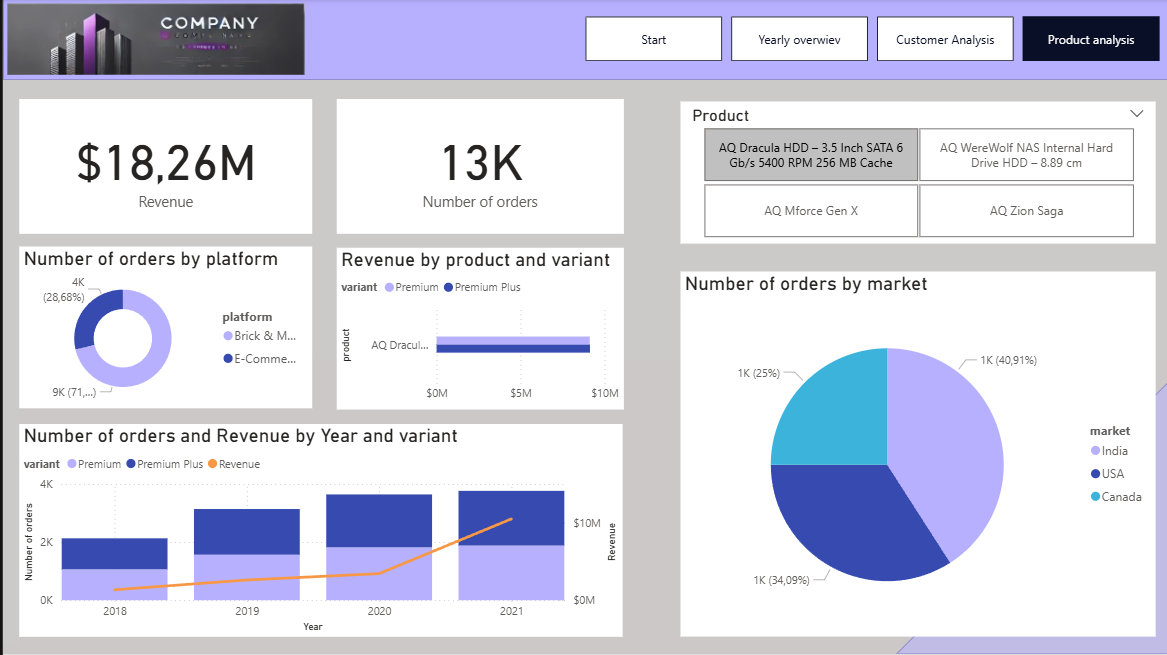

Layout of this report page (visuals, bound fields, positions):
{"tool":"powerbi","page":{"name":"Product analysis","canvas":[1280,720],"ordinal":3},"visuals":[{"type":"slicer","fields":{"Values":["dim_product.product"]},"box":[743.1,112.8,521.3,155.6],"z":1000},{"type":"shape","box":[980.4,420.2,299.6,299.6],"z":1500},{"type":"pieChart","fields":{"Category":["dim_customer.market"],"Y":["_Measures.Count_Of_Orders"]},"box":[743.1,298.6,521.3,400.7],"z":2000},{"type":"donutChart","fields":{"Y":["_Measures.Count_Of_Orders"],"Category":["dim_customer.platform"]},"box":[18.5,272.3,321.9,178],"z":3000},{"type":"clusteredBarChart","fields":{"Category":["dim_product.product"],"Series":["dim_product.variant"],"Y":["Sum(fact_sales_monthly.Revenue)"]},"box":[365.7,273.3,315.1,178],"z":4000},{"type":"card","fields":{"Values":["Sum(fact_sales_monthly.Revenue)"]},"box":[18.5,109.9,321.9,147.8],"z":5000},{"type":"card","fields":{"Values":["_Measures.Count_Of_Orders"]},"box":[365.7,109.9,315.1,147.8],"z":6000},{"type":"shape","box":[0,0,1280,88.9],"z":7000},{"type":"pageNavigator","box":[640,19.5,632.2,49.6],"z":8000},{"type":"lineStackedColumnComboChart","fields":{"Y":["_Measures.Count_Of_Orders"],"Category":["dim_Date.Date.Variation.Date Hierarchy.Year","dim_Date.Date.Variation.Date Hierarchy.Month"],"Y2":["Sum(fact_sales_monthly.Revenue)"],"Series":["dim_product.variant"]},"box":[18.5,465.9,662.4,233.4],"z":9000},{"type":"image","box":[0,0,336.5,88.5],"z":10000}]}

Visuals, with their boxes in screenshot pixels (x1, y1, x2, y2), scaled from the page's 1280x720 canvas onto the 1167x655 screenshot:
slicer - dim_product.product: bbox=(677, 103, 1153, 244)
shape: bbox=(894, 382, 1166, 654)
pieChart - dim_customer.market x _Measures.Count_Of_Orders: bbox=(677, 272, 1153, 636)
donutChart - _Measures.Count_Of_Orders x dim_customer.platform: bbox=(17, 248, 310, 410)
clusteredBarChart - dim_product.product x dim_product.variant: bbox=(333, 249, 621, 411)
card - Sum(fact_sales_monthly.Revenue): bbox=(17, 100, 310, 234)
card - _Measures.Count_Of_Orders: bbox=(333, 100, 621, 234)
shape: bbox=(0, 0, 1166, 81)
pageNavigator: bbox=(584, 18, 1160, 63)
lineStackedColumnComboChart - _Measures.Count_Of_Orders x dim_Date.Date.Variation.Date Hierarchy.Year: bbox=(17, 424, 621, 636)
image: bbox=(0, 0, 307, 81)
